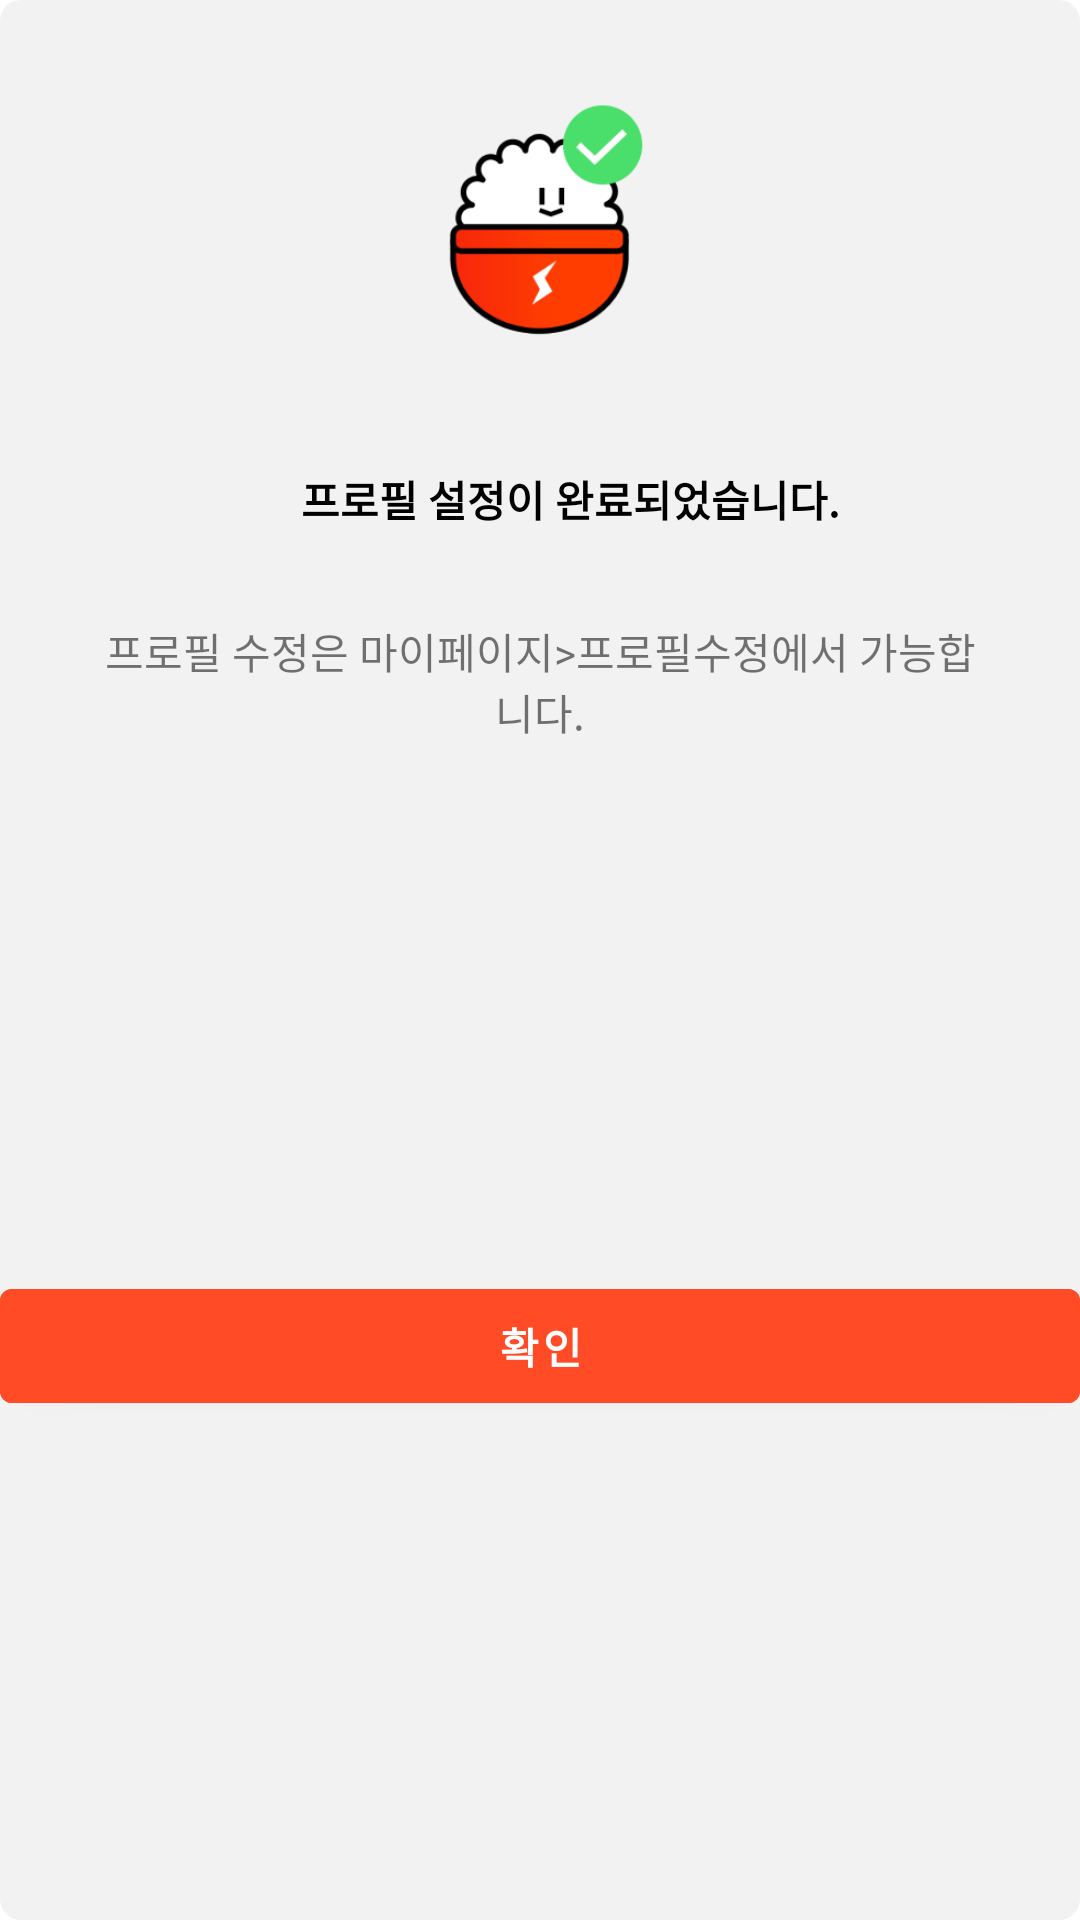

Icon bounding boxes for this 1080*1920 phone screenshot, format detection(x1, y1, x2, y2):
honbap phone check: detection(449, 105, 643, 335)
